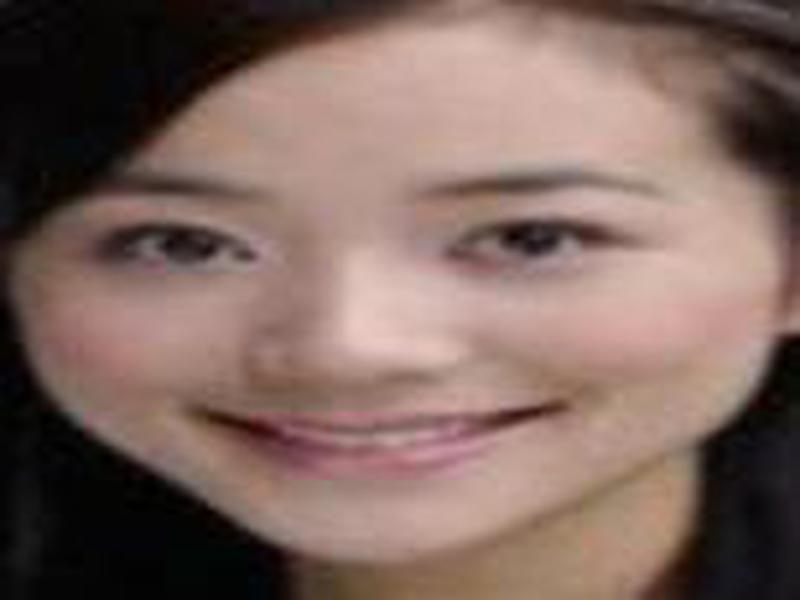without_mask: (17, 82, 753, 568)
